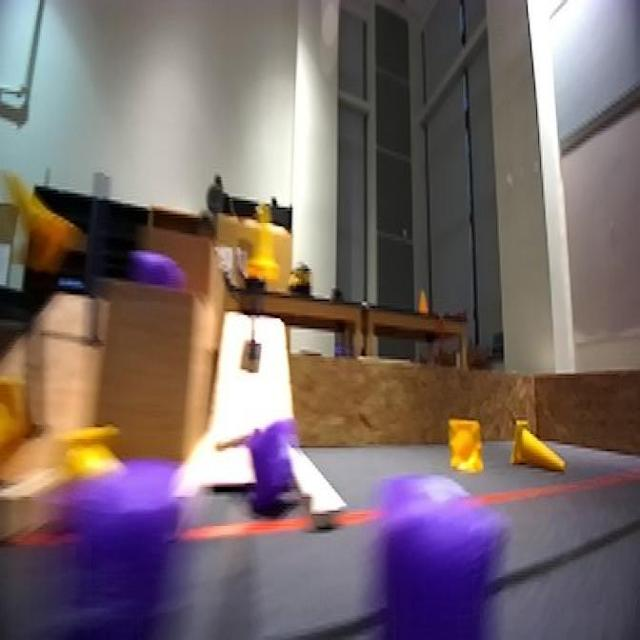frc_cone: (58, 412, 146, 483), (0, 371, 41, 507), (12, 172, 72, 260), (509, 409, 572, 480), (248, 190, 290, 292), (447, 417, 483, 472)
frc_cube: (354, 480, 509, 640), (55, 456, 175, 640), (244, 405, 297, 519), (137, 245, 190, 303)
